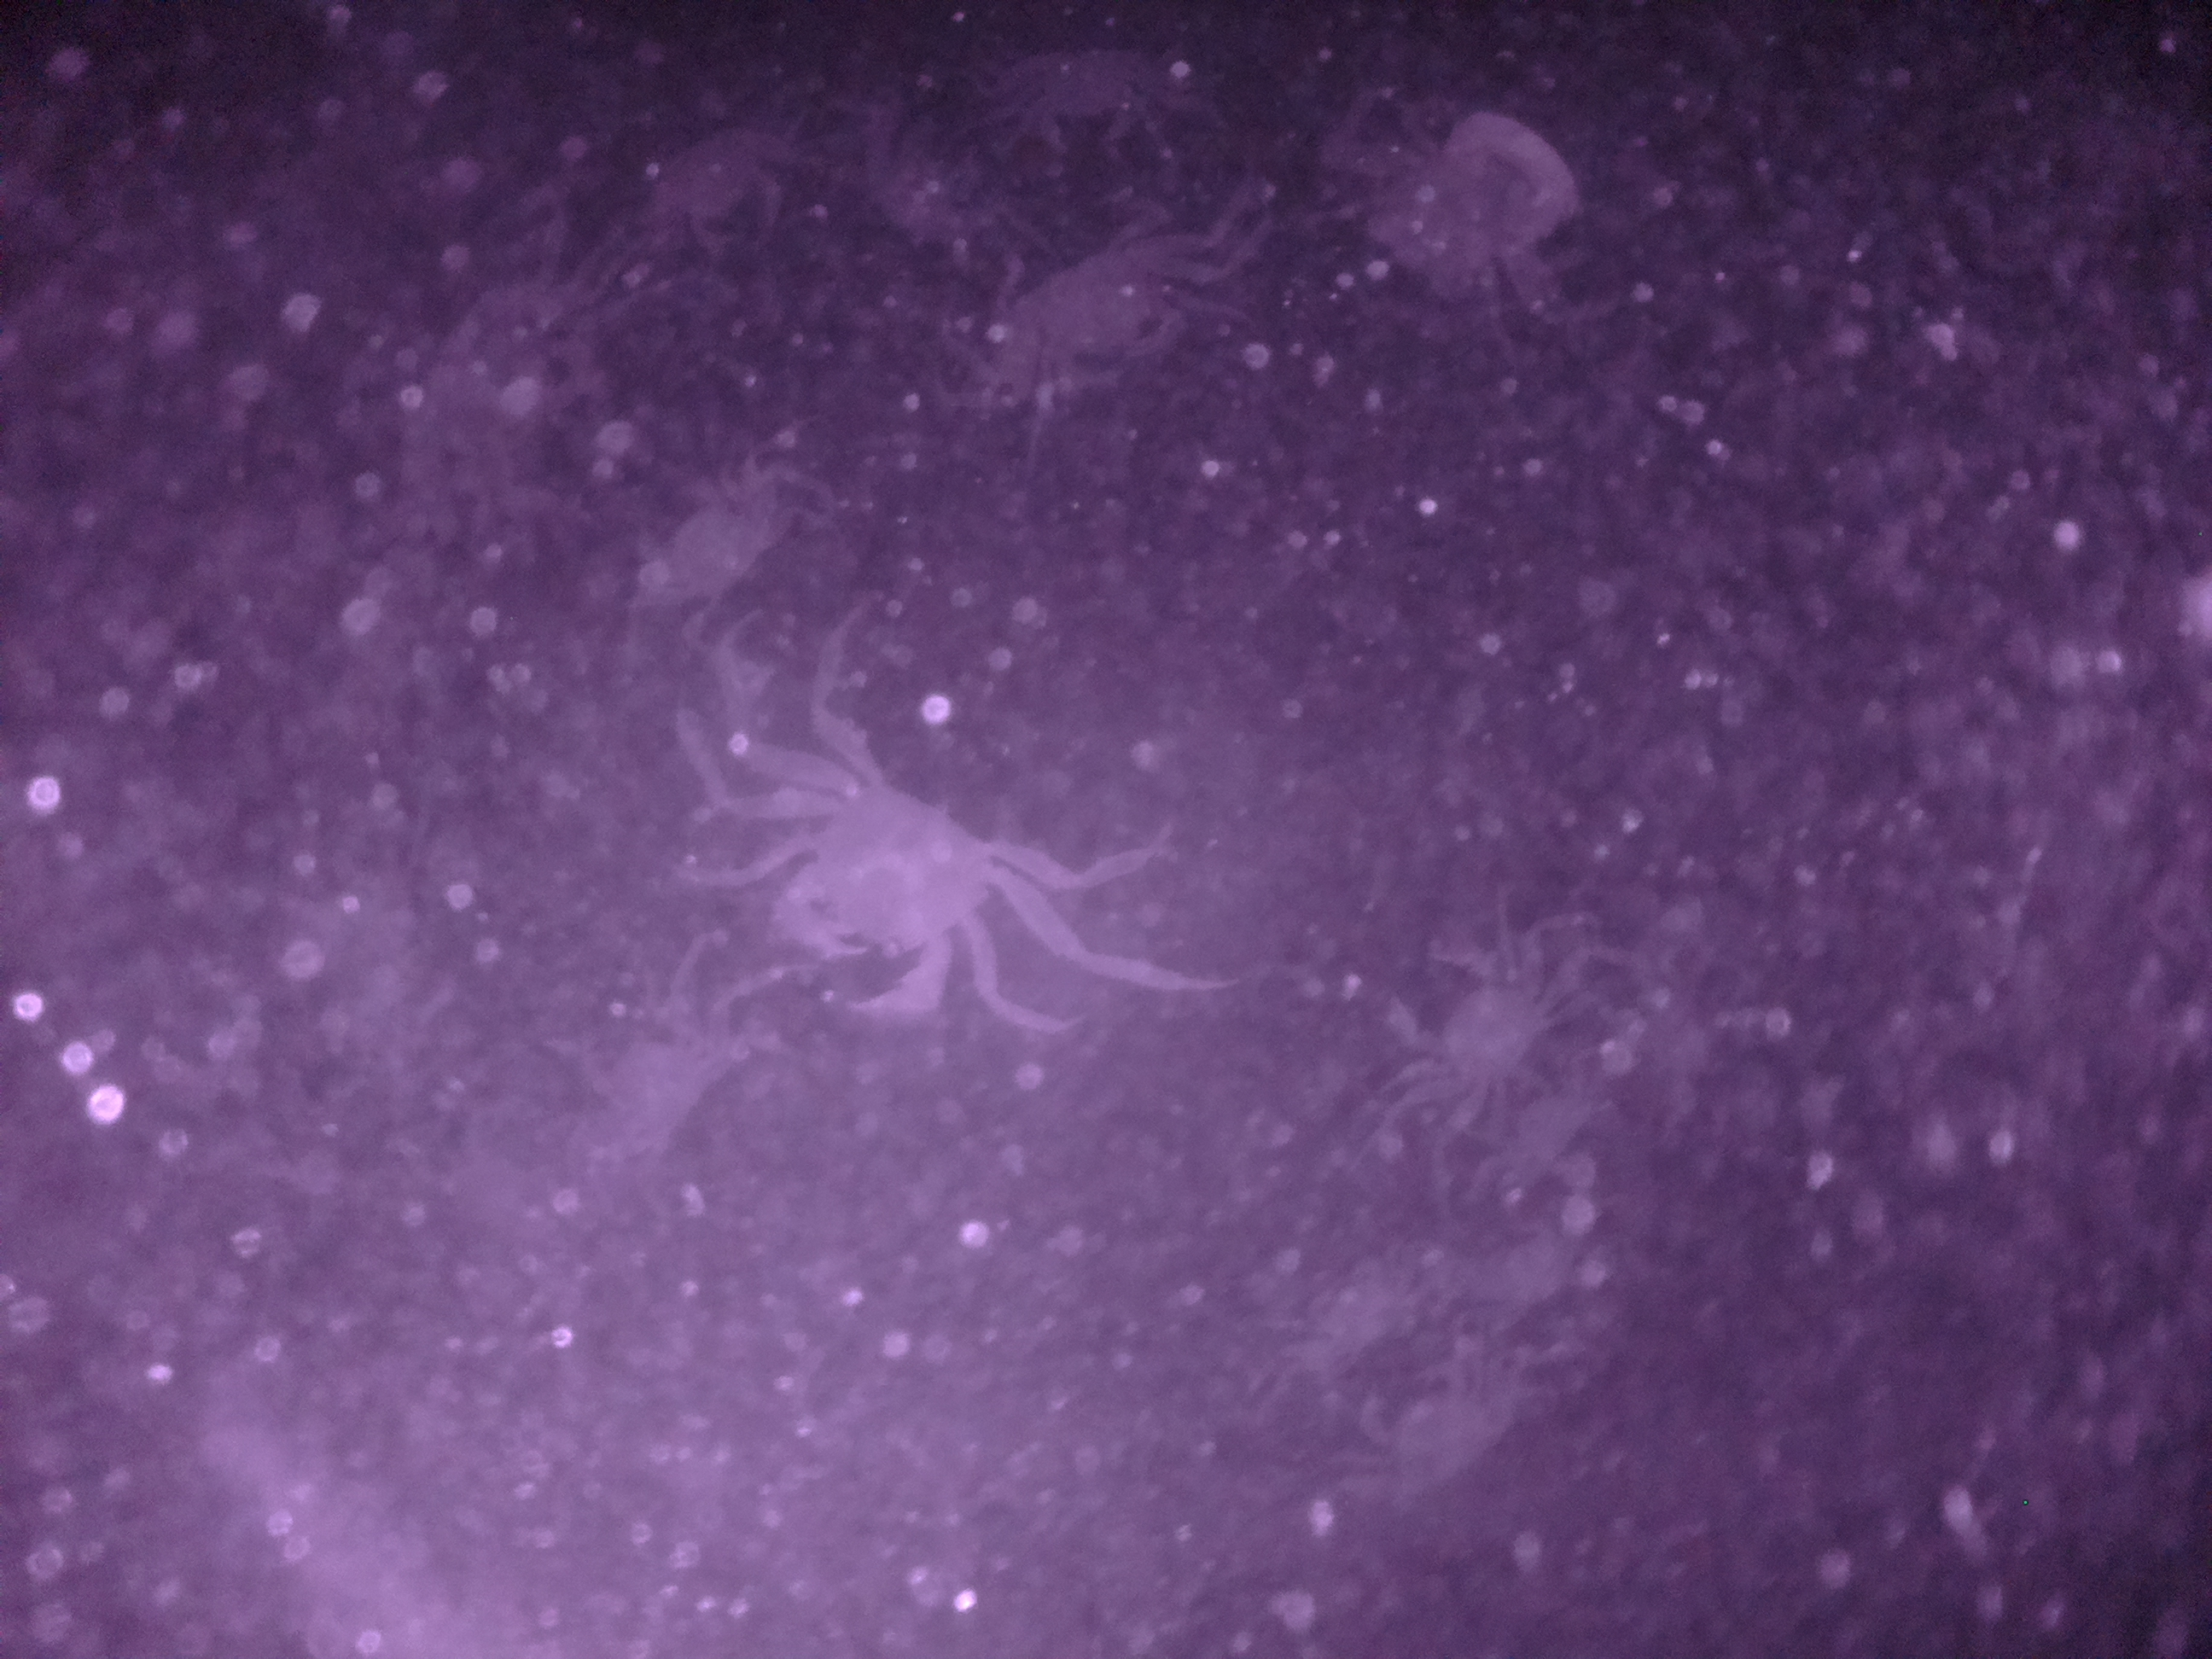Crab: (742, 753, 1064, 1033), (1381, 904, 1592, 1121)
